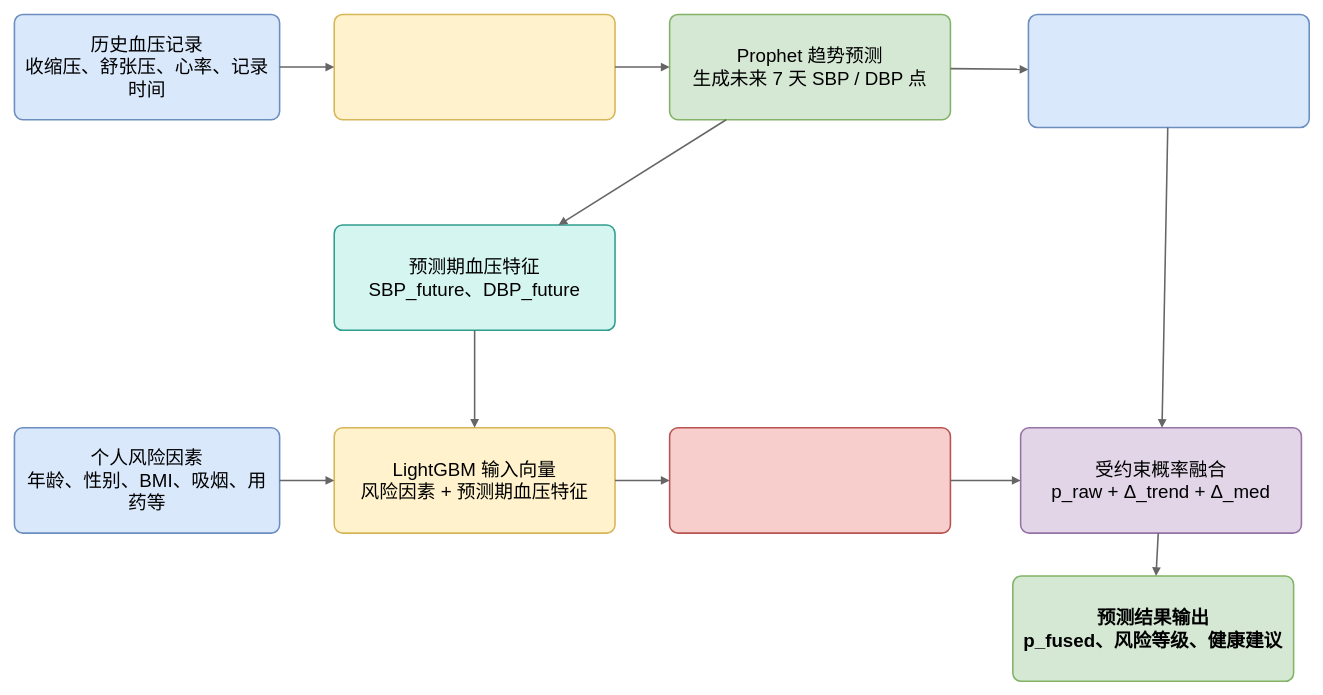
Image size: 1323x695. Some labels were removed from this diagram. The shapes that lost their labels are listed below. From the top down, each one's centre as x and y in pixels, then its label:
(474,66): 数据校验与日聚合 按自然日形成日均血压序列
(1168,70): 趋势融合信号 高血压天数、峰值、斜率、用药状态
(809,480): LightGBM 风险分类 输出原始风险概率 p_raw
